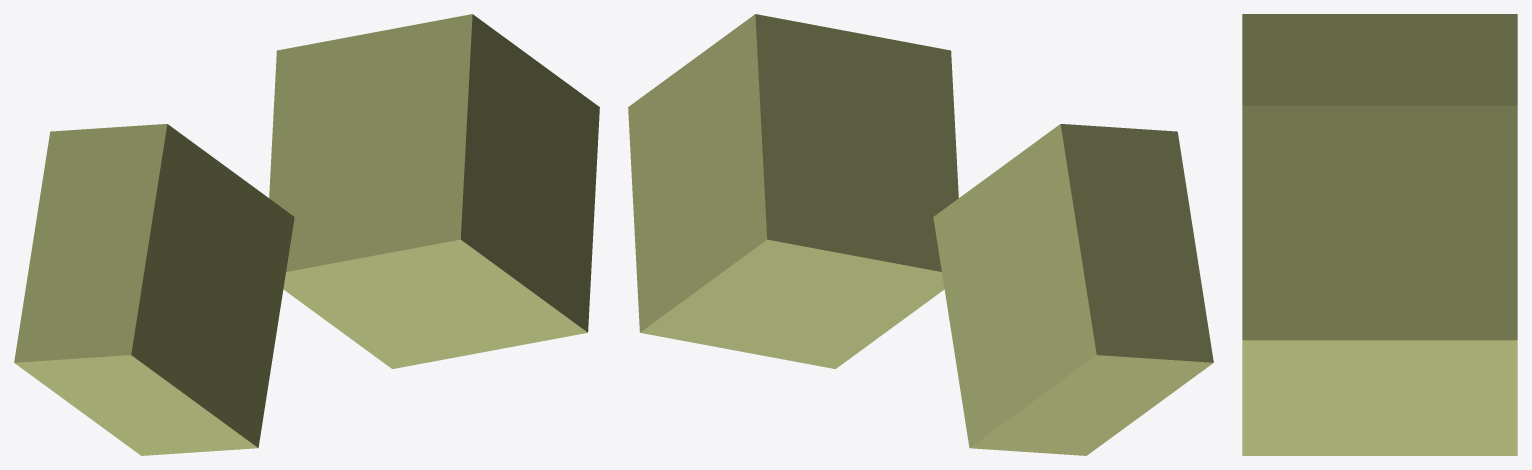
3 renders of one model, left to right at view 1: azimuth 30°, elevation 25°; view 2: azimuth 150°, elevation 25°; view 3: azimuth 270°, elevation 25°, orthographic. The views are drawn at different scales.
Parts seen in each view (by area): view 1: 0_1_0_0_1_1_3_3_0_0; view 2: 0_1_0_0_1_1_3_3_0_0; view 3: 0_1_0_0_1_1_3_3_0_0.
Boxes of the visible parts, x1,y1,x2,y2 form: 0_1_0_0_1_1_3_3_0_0: (14, 14, 599, 455); 0_1_0_0_1_1_3_3_0_0: (628, 14, 1213, 455); 0_1_0_0_1_1_3_3_0_0: (1242, 14, 1517, 455).
Size of the model in its own units: 18.71 by 10.49 by 9.
